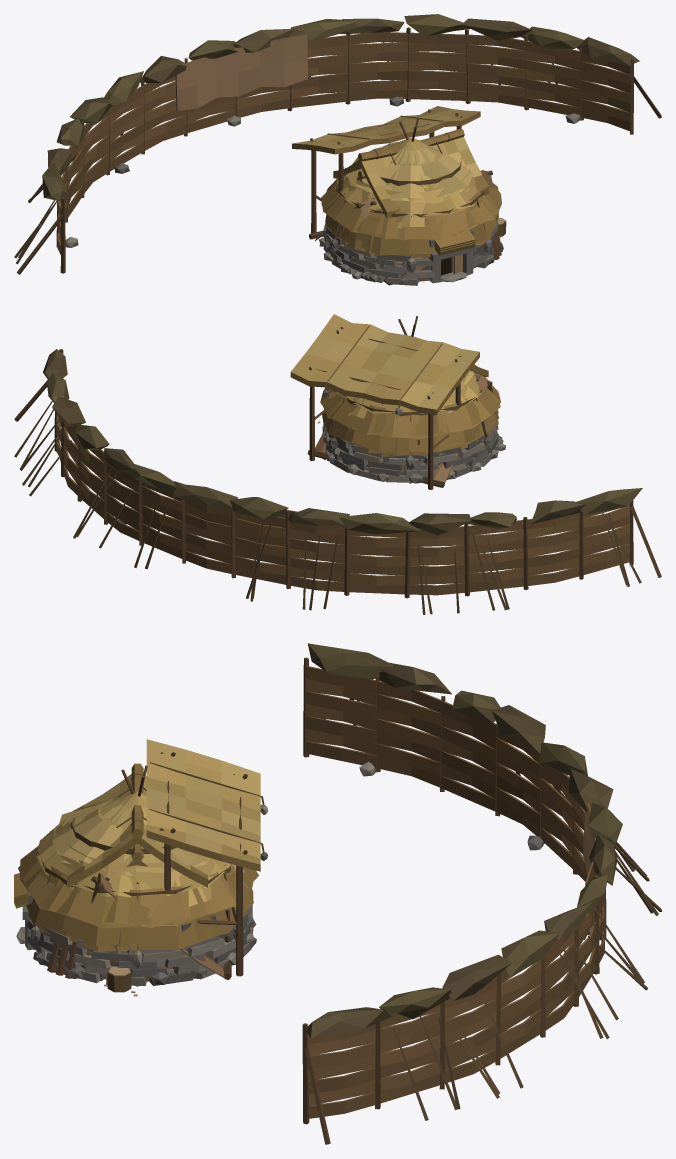
Rendered from band.glb.
3 renders of one model, top to bottom at view 1: azimuth 30°, elevation 25°; view 2: azimuth 150°, elevation 25°; view 3: azimuth 270°, elevation 25°, orthographic. The views are drawn at different scales.
Parts seen in each view (by area): view 1: bld__windbreak, bld__hut1s, bld__woodshed, bld__hut0, bld__hut0s, bld__storehouse, bld__hut0d, bld__hut1d, bld__hut1, bld__leanto; view 2: bld__windbreak, bld__woodshed, bld__hut1s, bld__hut0, bld__hut0s, bld__hut1d, bld__hut0d, bld__leanto, bld__hut1; view 3: bld__windbreak, bld__hut1s, bld__woodshed, bld__hut0s, bld__hut0d, bld__hut0, bld__storehouse, bld__hut1d, bld__hut1, bld__leanto.
Part boxes in pixels (<box>): bld__windbreak: <box>14,14,661,274</box>; bld__hut1s: <box>323,142,498,285</box>; bld__woodshed: <box>292,106,506,238</box>; bld__hut0: <box>321,118,502,276</box>; bld__hut0s: <box>321,138,499,282</box>; bld__storehouse: <box>333,128,489,217</box>; bld__hut0d: <box>323,138,501,240</box>; bld__hut1d: <box>319,162,501,284</box>; bld__hut1: <box>319,177,503,284</box>; bld__leanto: <box>309,170,493,240</box>; bld__windbreak: <box>14,349,661,614</box>; bld__woodshed: <box>290,314,479,489</box>; bld__hut1s: <box>323,340,498,482</box>; bld__hut0: <box>321,316,500,436</box>; bld__hut0s: <box>322,336,506,475</box>; bld__hut1d: <box>322,377,498,483</box>; bld__hut0d: <box>320,338,497,438</box>; bld__leanto: <box>307,374,492,487</box>; bld__hut1: <box>322,413,502,483</box>; bld__windbreak: <box>302,643,661,1144</box>; bld__hut1s: <box>14,798,254,985</box>; bld__woodshed: <box>104,739,267,996</box>; bld__hut0s: <box>18,791,253,983</box>; bld__hut0d: <box>21,792,226,925</box>; bld__hut0: <box>20,765,258,978</box>; bld__storehouse: <box>67,763,207,888</box>; bld__hut1d: <box>14,825,256,984</box>; bld__hut1: <box>14,846,256,984</box>; bld__leanto: <box>91,872,231,979</box>.
Size of the model in its own units: 3.28 by 0.7919 by 2.16.
